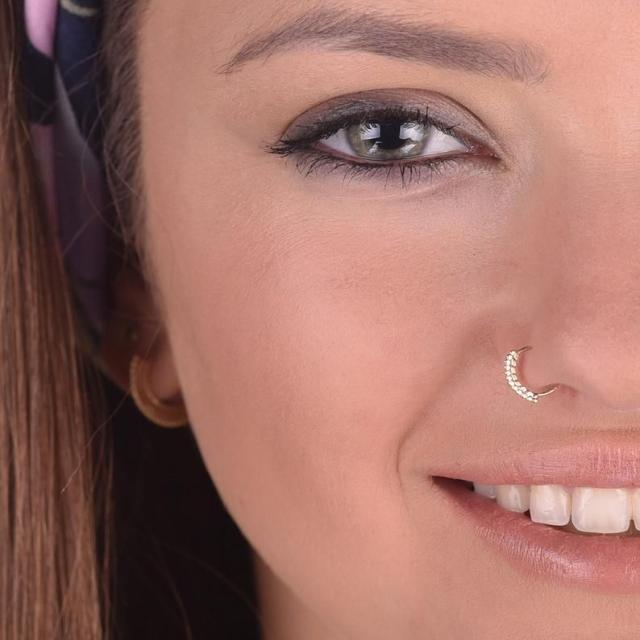Earring: (110, 306, 199, 444)
